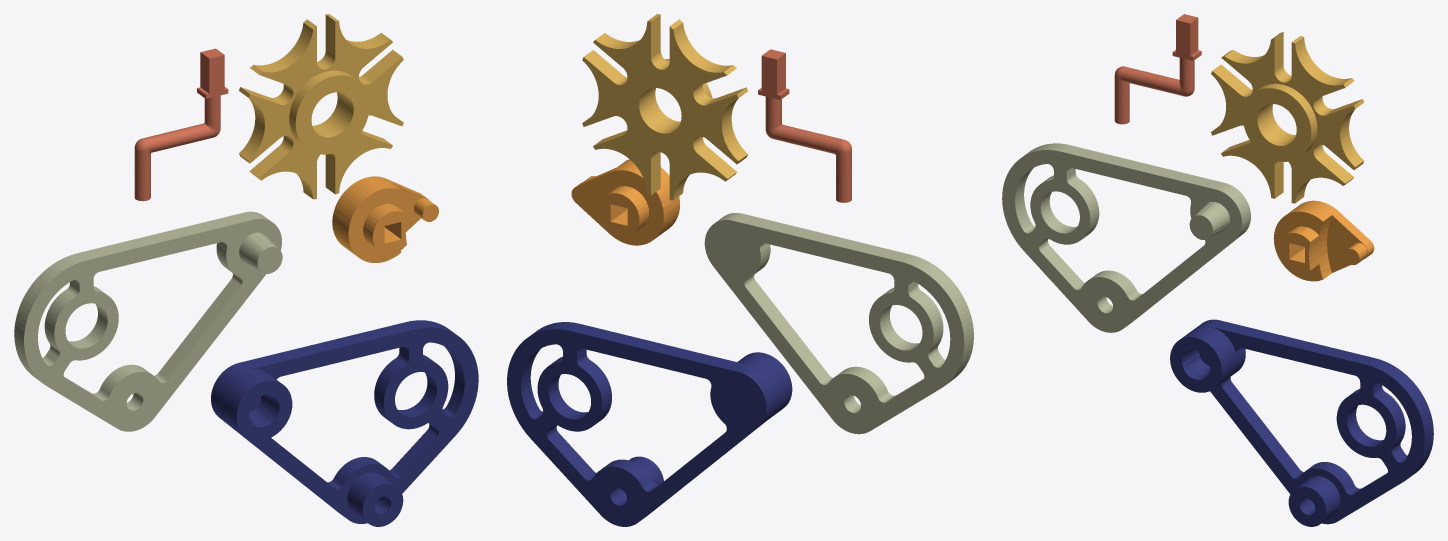
File: tinker.obj
The picture shows the model from 3 angles, left to right: view 1: azimuth 30°, elevation 25°; view 2: azimuth 150°, elevation 25°; view 3: azimuth 330°, elevation 25°; orthographic projection. The views are drawn at different scales.
Visible parts, largest first — view 1: obj_0, obj_4, obj_3, obj_2, obj_1; view 2: obj_4, obj_0, obj_3, obj_2, obj_1; view 3: obj_4, obj_0, obj_3, obj_2, obj_1.
Part boxes in pixels (<box>): obj_0: <box>14,211,282,431</box>; obj_4: <box>211,320,478,526</box>; obj_3: <box>239,14,403,199</box>; obj_2: <box>332,176,438,262</box>; obj_1: <box>134,48,228,201</box>; obj_4: <box>507,322,792,526</box>; obj_0: <box>704,213,973,434</box>; obj_3: <box>582,14,747,200</box>; obj_2: <box>571,159,679,245</box>; obj_1: <box>758,49,851,202</box>; obj_4: <box>1170,319,1433,526</box>; obj_0: <box>1002,143,1250,332</box>; obj_3: <box>1211,32,1363,203</box>; obj_2: <box>1273,200,1374,281</box>; obj_1: <box>1114,14,1201,124</box>.
Size of the model in its own units: 163 by 174 by 22.
